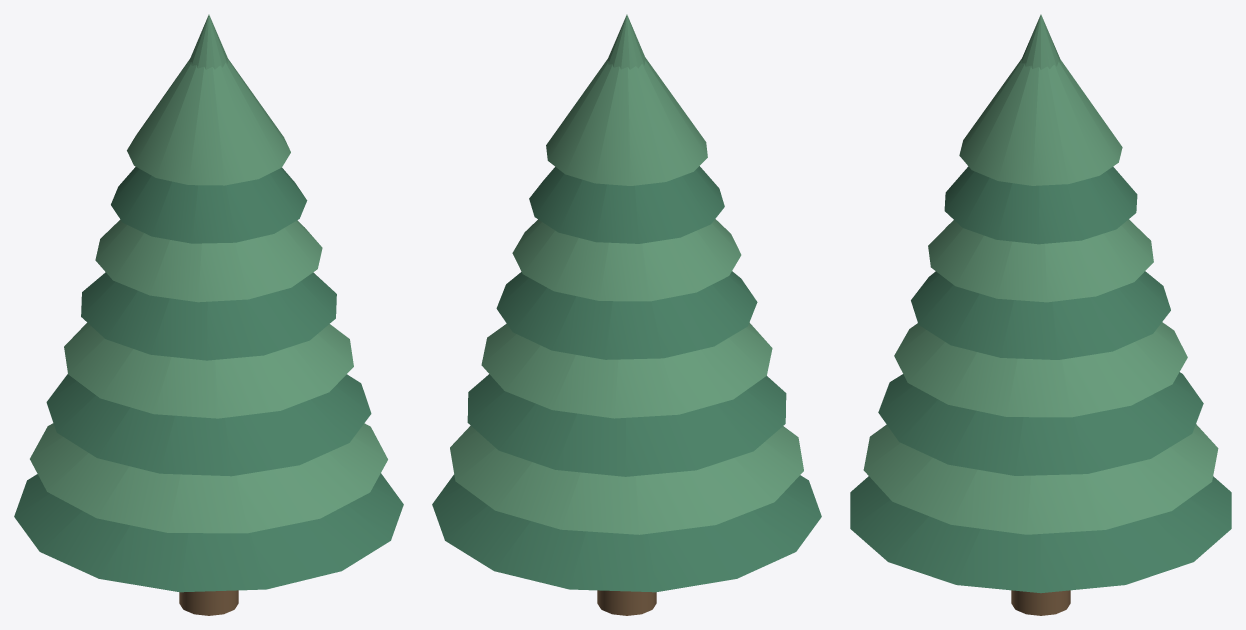
Rendered from pine_01.gltf.
3 renders of one model, left to right at view 1: azimuth 30°, elevation 25°; view 2: azimuth 150°, elevation 25°; view 3: azimuth 270°, elevation 25°, orthographic.
Visible parts, largest first — view 1: Foliage_0, Foliage_1, Foliage_2, Foliage_3, Foliage_4, Foliage_7, Foliage_5, Foliage_6, Trunk, Top; view 2: Foliage_0, Foliage_1, Foliage_2, Foliage_3, Foliage_4, Foliage_7, Foliage_5, Foliage_6, Trunk, Top; view 3: Foliage_0, Foliage_1, Foliage_2, Foliage_3, Foliage_4, Foliage_7, Foliage_5, Foliage_6, Trunk, Top.
Part boxes in pixels (left/top/right/bottom): Foliage_0: left=14, top=473, right=403, bottom=592; Foliage_1: left=30, top=423, right=387, bottom=533; Foliage_2: left=46, top=374, right=371, bottom=476; Foliage_3: left=64, top=322, right=353, bottom=418; Foliage_4: left=81, top=272, right=336, bottom=360; Foliage_7: left=127, top=58, right=290, bottom=185; Foliage_5: left=95, top=219, right=322, bottom=302; Foliage_6: left=111, top=167, right=307, bottom=243; Trunk: left=179, top=590, right=238, bottom=615; Top: left=189, top=14, right=228, bottom=69; Foliage_0: left=432, top=474, right=821, bottom=592; Foliage_1: left=450, top=425, right=803, bottom=534; Foliage_2: left=467, top=374, right=786, bottom=476; Foliage_3: left=481, top=322, right=772, bottom=418; Foliage_4: left=496, top=271, right=757, bottom=359; Foliage_7: left=546, top=57, right=707, bottom=185; Foliage_5: left=512, top=219, right=741, bottom=301; Foliage_6: left=529, top=166, right=724, bottom=243; Trunk: left=597, top=590, right=656, bottom=615; Top: left=607, top=14, right=646, bottom=69; Foliage_0: left=850, top=476, right=1231, bottom=593; Foliage_1: left=863, top=424, right=1218, bottom=534; Foliage_2: left=878, top=372, right=1203, bottom=475; Foliage_3: left=894, top=322, right=1187, bottom=417; Foliage_4: left=911, top=271, right=1170, bottom=359; Foliage_7: left=959, top=58, right=1122, bottom=185; Foliage_5: left=928, top=219, right=1153, bottom=302; Foliage_6: left=944, top=166, right=1137, bottom=244; Trunk: left=1011, top=590, right=1070, bottom=615; Top: left=1021, top=14, right=1060, bottom=69.
Size of the model in its own units: 2.9 by 4.82 by 2.83.
